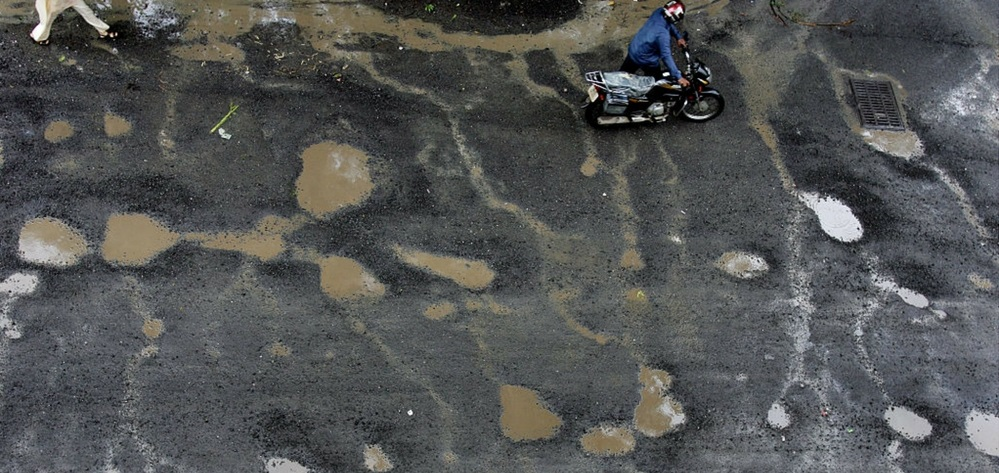pothole: (172, 1, 615, 78), (746, 103, 865, 243), (812, 37, 932, 156), (589, 150, 646, 301), (294, 133, 385, 213), (104, 200, 214, 266), (387, 236, 514, 290), (297, 239, 389, 303), (16, 205, 97, 270), (493, 383, 573, 443), (698, 230, 779, 283), (626, 360, 680, 433), (202, 221, 287, 263), (882, 270, 947, 323), (873, 401, 939, 445), (420, 293, 523, 320), (576, 421, 639, 455), (966, 402, 999, 465), (356, 429, 396, 473), (264, 452, 323, 473), (99, 106, 133, 140), (42, 108, 73, 143), (766, 398, 795, 428)
